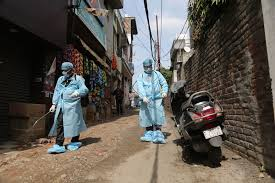mask: (56, 62, 75, 79), (142, 61, 154, 75)
